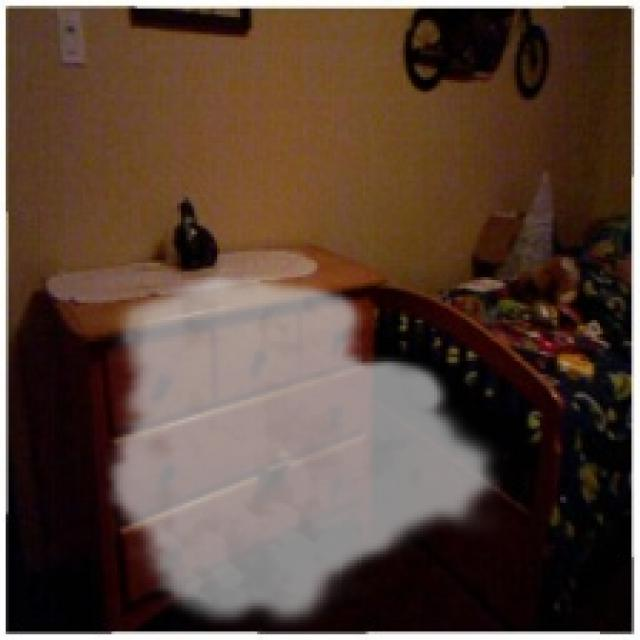smoke: (103, 269, 506, 634)
